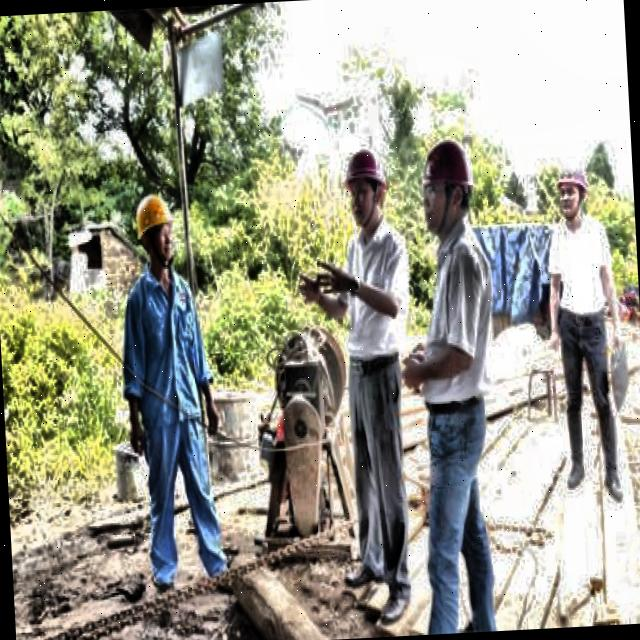helmet: (420, 137, 478, 240), (340, 140, 390, 234), (134, 192, 176, 272), (554, 150, 592, 233)
